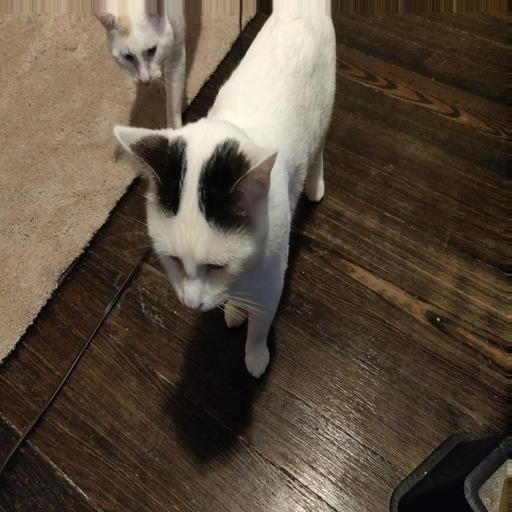cat: (91, 32, 391, 332)
